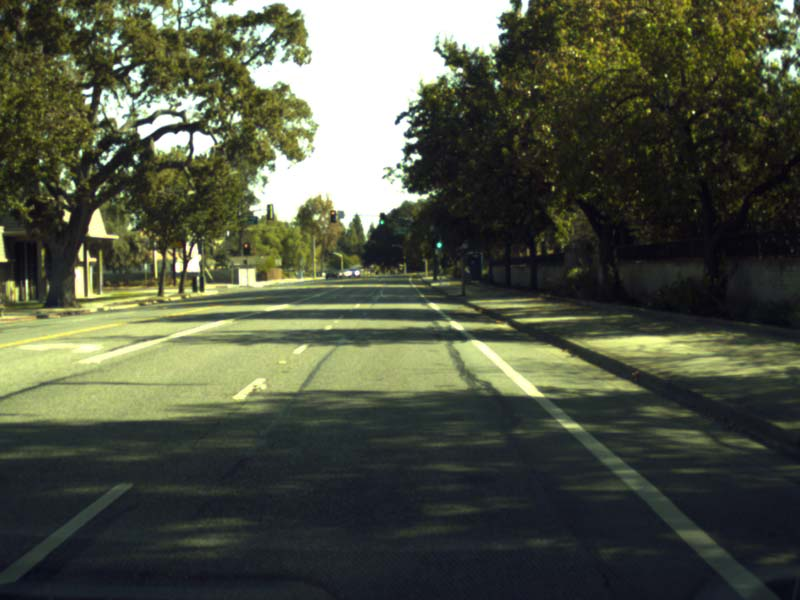Green: (380, 213, 384, 224), (437, 242, 441, 246)
Red: (244, 243, 249, 254), (330, 211, 334, 221)
